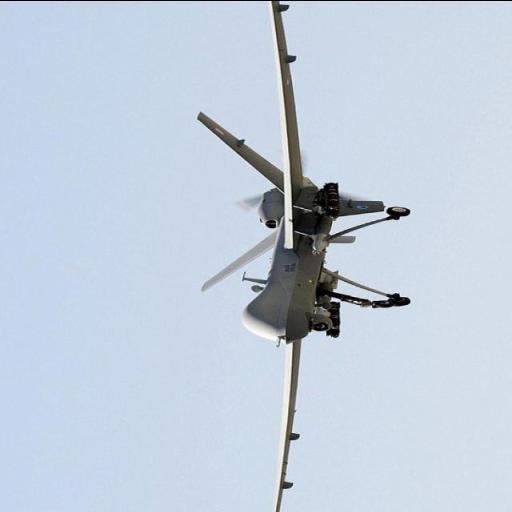uav: (183, 3, 392, 512)
